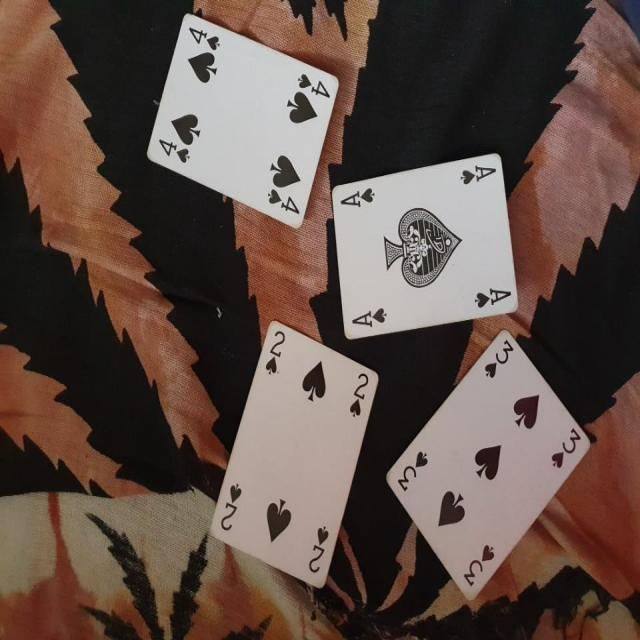2 of spades: (208, 324, 382, 586)
3 of spades: (384, 330, 590, 600)
4 of spades: (140, 14, 338, 222)
ace of spades: (329, 150, 521, 334)
